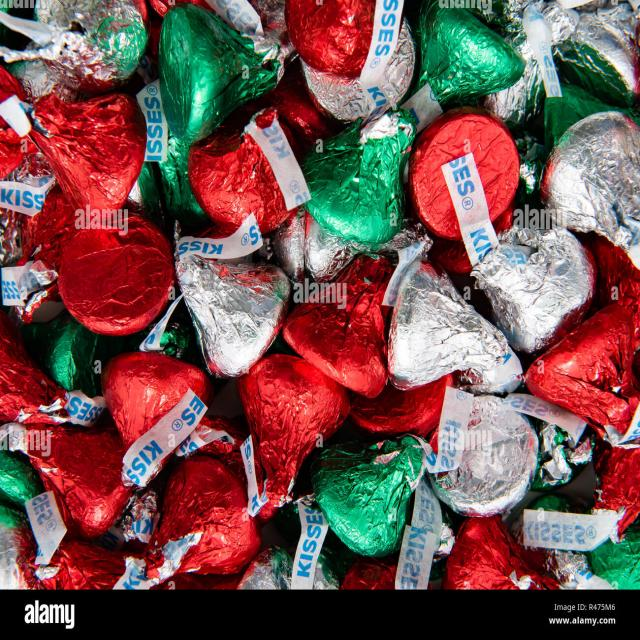kisses: (15, 71, 161, 238), (294, 111, 448, 263), (164, 234, 305, 394), (384, 270, 536, 404), (156, 13, 304, 141), (314, 430, 437, 555)
